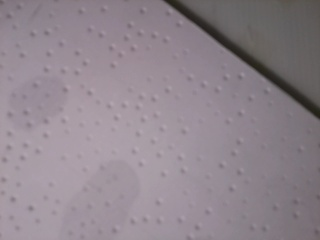Water_detected: (74, 166, 135, 236), (17, 81, 60, 135)
